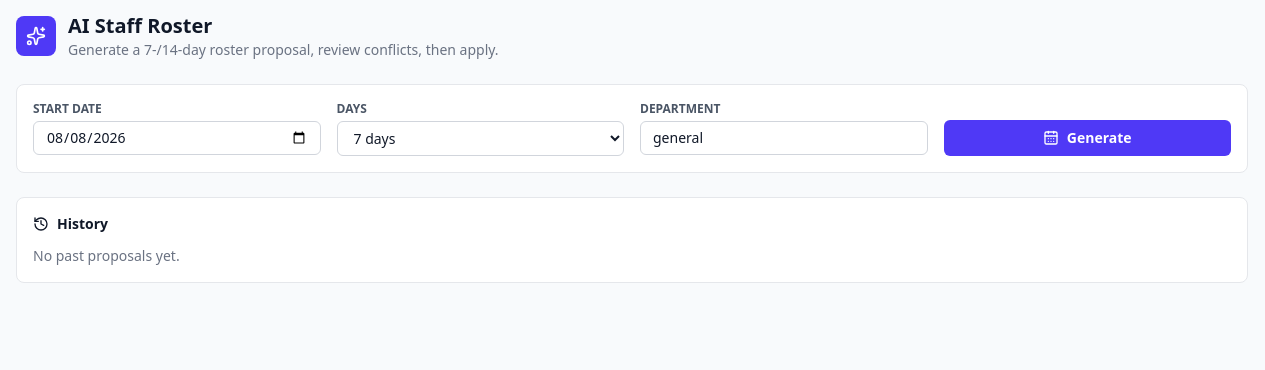
Test: AIRosterPage › surfaces an error when the propose endpoint rejects
Click the button "Generate".
click(1087, 138)  # box [944, 120, 1231, 156]
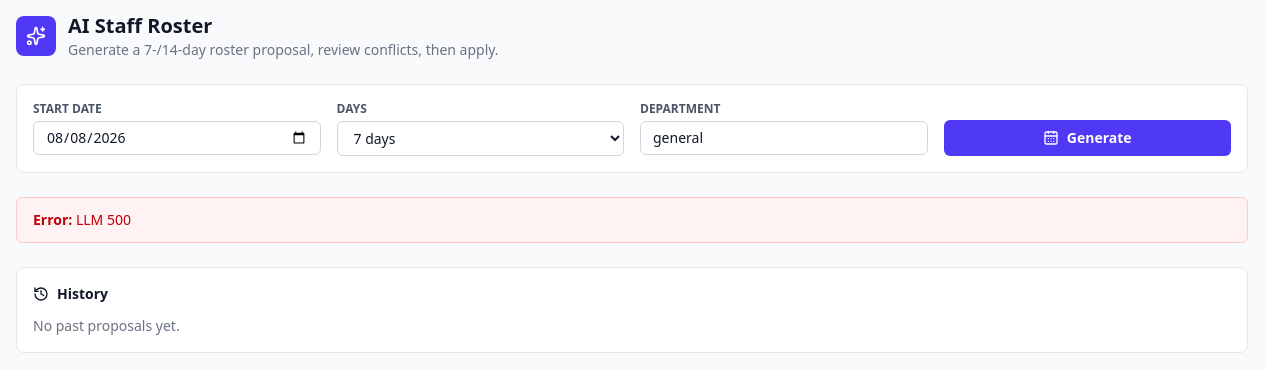
Now the text "Error: LLM 500" is shown, box [16, 197, 1248, 243]
